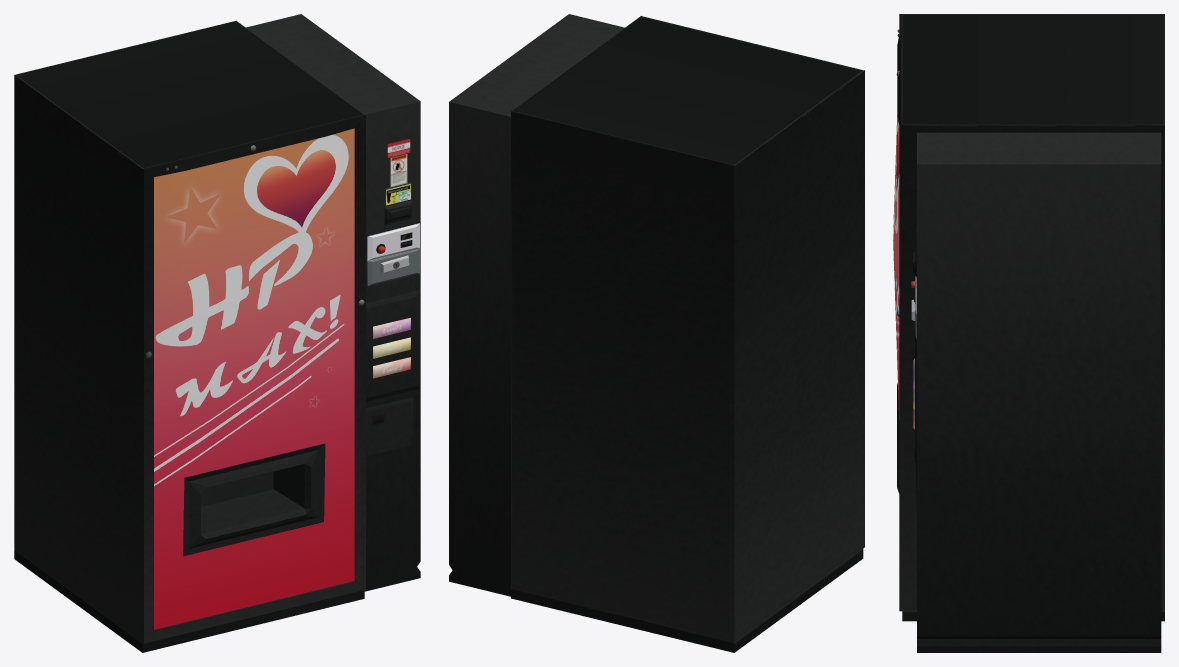
File: VendingMachine-HP.fbx
3 renders of one model, left to right at view 1: azimuth 30°, elevation 25°; view 2: azimuth 150°, elevation 25°; view 3: azimuth 270°, elevation 25°, orthographic. The views are drawn at different scales.
Visible parts, largest first — view 1: VendingMachine-HP; view 2: VendingMachine-HP; view 3: VendingMachine-HP.
Part boxes in pixels (bbox=[...]): VendingMachine-HP: bbox=[14, 14, 420, 652]; VendingMachine-HP: bbox=[449, 14, 864, 652]; VendingMachine-HP: bbox=[893, 14, 1164, 652].
Size of the model in its own units: 257 by 417 by 207.
1 material, 1 textured.
